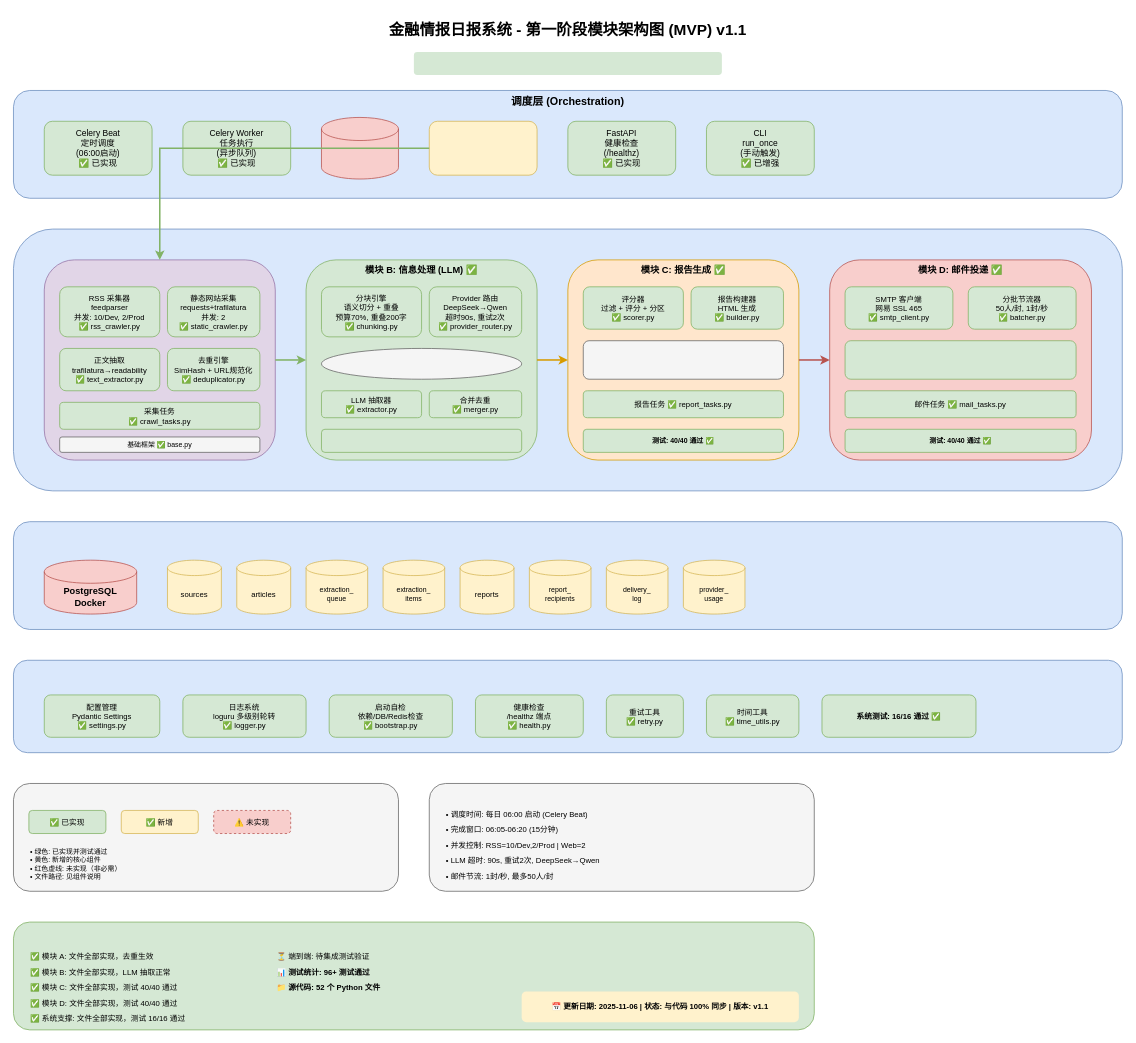
The diagram is 1136 pixels wide and 1043 high, and some of its shapes have lost their labels. Each missing label, with the box of its shape:
HTML 模板 ✅ email_body.html ✅ attachment.html: (583, 340, 783, 379)
LLM Providers: DeepSeek (主) | Qwen (备): (321, 348, 522, 379)
Orchestrator 任务编排器 chain/group ✅ 新增: (429, 121, 537, 175)
Redis 队列/调度 缓存 ✅ Docker: (321, 117, 398, 179)
✅ 已更新: 与实际代码 100% 同步 | 更新日期: 2025-11-06: (413, 52, 721, 75)
✅ 阶段一验收标准 - 全部达成: (13, 921, 814, 1030)
关键指标: (429, 783, 814, 891)
图例: (13, 783, 398, 891)
抽取任务 ✅ extract_tasks.py: (321, 429, 522, 452)
数据持久层 (Persistence) - PostgreSQL + 8个表: (13, 521, 1122, 629)
核心业务模块层 (Core Modules) - ✅ 全部完成: (13, 228, 1122, 491)
模块 A: 信息源采集 ✅: (44, 259, 275, 460)
系统支撑模块 (System Support) - ✅ 全部完成: (13, 660, 1122, 753)
重试处理器 失败重试2次, 硬退信黑名单 ✅ retry_handler.py: (844, 340, 1076, 379)
